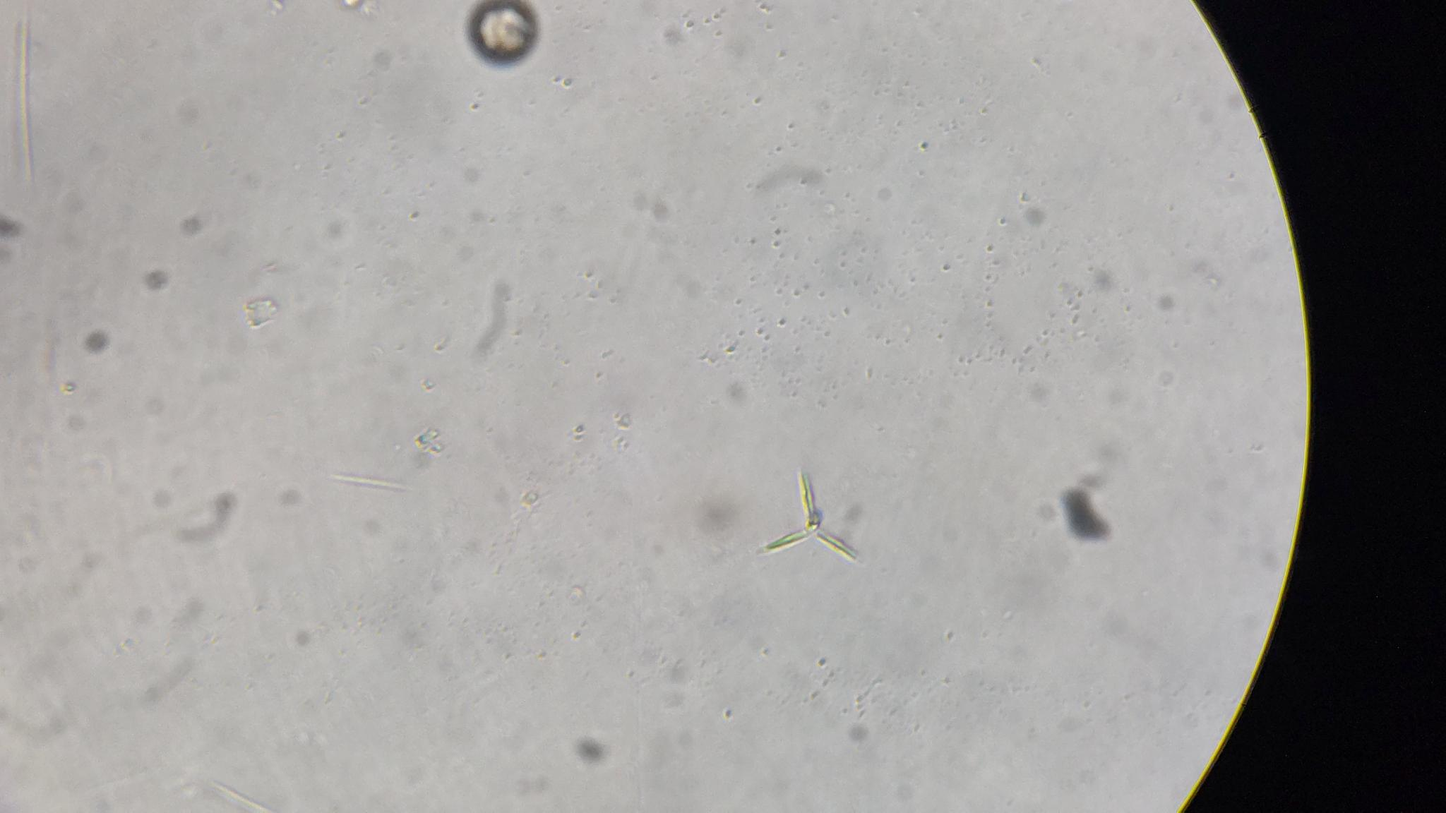Scenedesmus: (755, 446, 870, 590)
